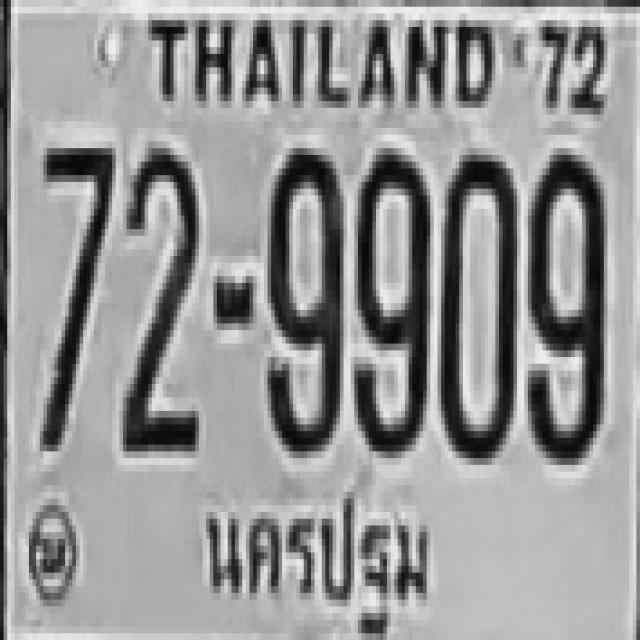0: (438, 148, 514, 458)
2: (120, 138, 196, 448)
7: (38, 142, 114, 444)
9: (524, 148, 600, 458), (264, 142, 340, 452), (351, 142, 426, 452)
NakhonPathom: (195, 478, 438, 640)
